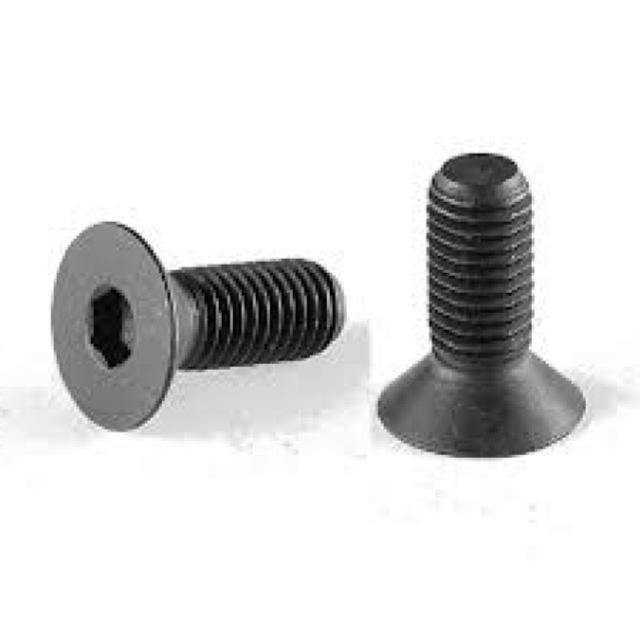allen: (48, 218, 173, 431)
